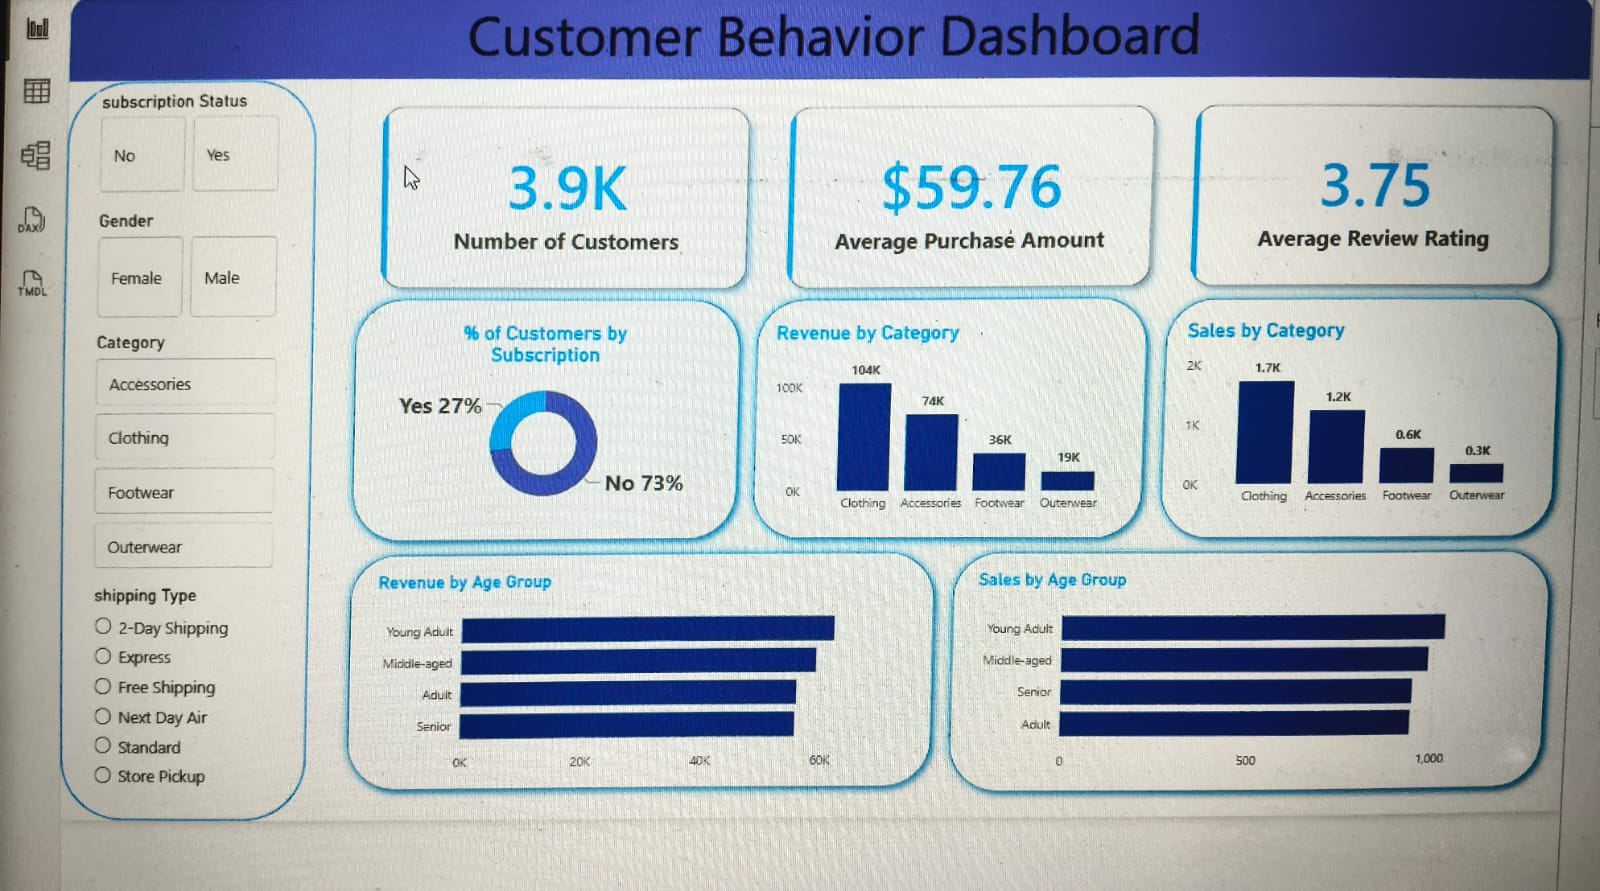

This screenshot's page, from the dashboard's own definition file:
{"tool":"powerbi","page":{"name":"Page 1","canvas":[1500,820],"ordinal":0},"visuals":[{"type":"cardVisual","fields":{"Data":["public_customer.Number of Customers","public_customer.Average Purchase Amount","public_customer.Average Review Rating"]},"box":[277.7,78.9,1222.7,244.5],"z":0},{"type":"shape","box":[0,0,1500.3,85.2],"z":1000},{"type":"textbox","box":[1267.6,545.9,12.2,44.6],"z":2000},{"type":"textbox","box":[0,0,1500.3,96.2],"z":3000},{"type":"shape","box":[277.7,291.9,396,258.7],"z":4000},{"type":"donutChart","title":"% of Customers by Subscription","fields":{"Category":["public_customer.subscription_status"],"Y":["CountNonNull(public_customer.review_rating)"]},"box":[309.2,323.4,326.6,194],"z":5000},{"type":"shape","box":[672.1,291.9,403.9,258.7],"z":6000},{"type":"shape","box":[1075.9,293.4,410.2,257.2],"z":7000},{"type":"clusteredColumnChart","title":"Revenue by Category","fields":{"Y":["Sum(public_customer.purchase_amount)"],"Category":["public_customer.category"]},"box":[695.7,323.4,358.1,200.4],"z":8000},{"type":"clusteredColumnChart","title":"Sales by Category","fields":{"Y":["CountNonNull(public_customer.customer_id)"],"Category":["public_customer.category"]},"box":[1101.2,323.4,359.7,194],"z":9000},{"type":"shape","box":[0,85.2,246.1,735.2],"z":10000},{"type":"advancedSlicerVisual","title":"subscription Status","fields":{"Values":["public_customer.subscription_status"]},"box":[28.5,95.4,187.5,105.5],"z":11000},{"type":"advancedSlicerVisual","title":"Gender","fields":{"Values":["public_customer.gender"]},"box":[28.5,212.7,187.5,110.5],"z":12000},{"type":"advancedSlicerVisual","title":"Category","fields":{"Values":["public_customer.category"]},"box":[28.5,333.2,187.5,239.5],"z":13000},{"type":"listSlicer","title":"shipping Type","fields":{"Values":["public_customer.shipping_type"]},"box":[28.5,584.4,187.5,214.3],"z":14000},{"type":"shape","box":[874.1,545.9,612.9,257.9],"z":17000},{"type":"clusteredBarChart","title":"Sales by Age Group","fields":{"Category":["public_customer.age_group"],"Y":["CountNonNull(public_customer.customer_id)"]},"box":[904,572.7,552.2,209.8],"z":18000},{"type":"shape","box":[278,545.9,596.1,252.8],"z":18001},{"type":"clusteredBarChart","title":"Revenue by Age Group","fields":{"Category":["public_customer.age_group"],"Y":["Sum(public_customer.purchase_amount)"]},"box":[309.8,572.7,519.1,209.3],"z":18002}]}

Visuals, with their boxes on the page's 1500x820 design canvas (x1, y1, x2, y2). These are canvas units, not pixel positions in the 1600x891 screenshot, which may show the page scaled, cropped or inside an application window:
cardVisual - public_customer.Number of Customers x public_customer.Average Purchase Amount: [278,79,1500,323]
shape: [0,0,1500,85]
textbox: [1268,546,1280,590]
textbox: [0,0,1500,96]
shape: [278,292,674,551]
"% of Customers by Subscription" donutChart: [309,323,636,517]
shape: [672,292,1076,551]
shape: [1076,293,1486,551]
"Revenue by Category" clusteredColumnChart: [696,323,1054,524]
"Sales by Category" clusteredColumnChart: [1101,323,1461,517]
shape: [0,85,246,820]
"subscription Status" advancedSlicerVisual: [28,95,216,201]
"Gender" advancedSlicerVisual: [28,213,216,323]
"Category" advancedSlicerVisual: [28,333,216,573]
"shipping Type" listSlicer: [28,584,216,799]
shape: [874,546,1487,804]
"Sales by Age Group" clusteredBarChart: [904,573,1456,782]
shape: [278,546,874,799]
"Revenue by Age Group" clusteredBarChart: [310,573,829,782]
